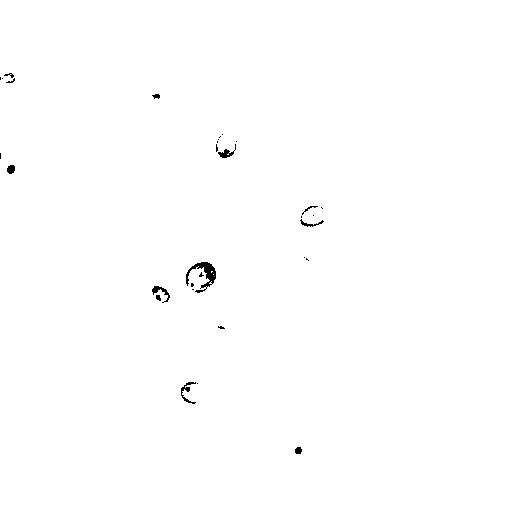micro-algae: (143, 205, 183, 253), (183, 258, 217, 294), (278, 431, 309, 460), (296, 203, 331, 226), (298, 239, 328, 263), (179, 379, 207, 404), (1, 156, 23, 186), (215, 131, 239, 158), (150, 283, 171, 305), (1, 69, 17, 85), (189, 171, 201, 189)
